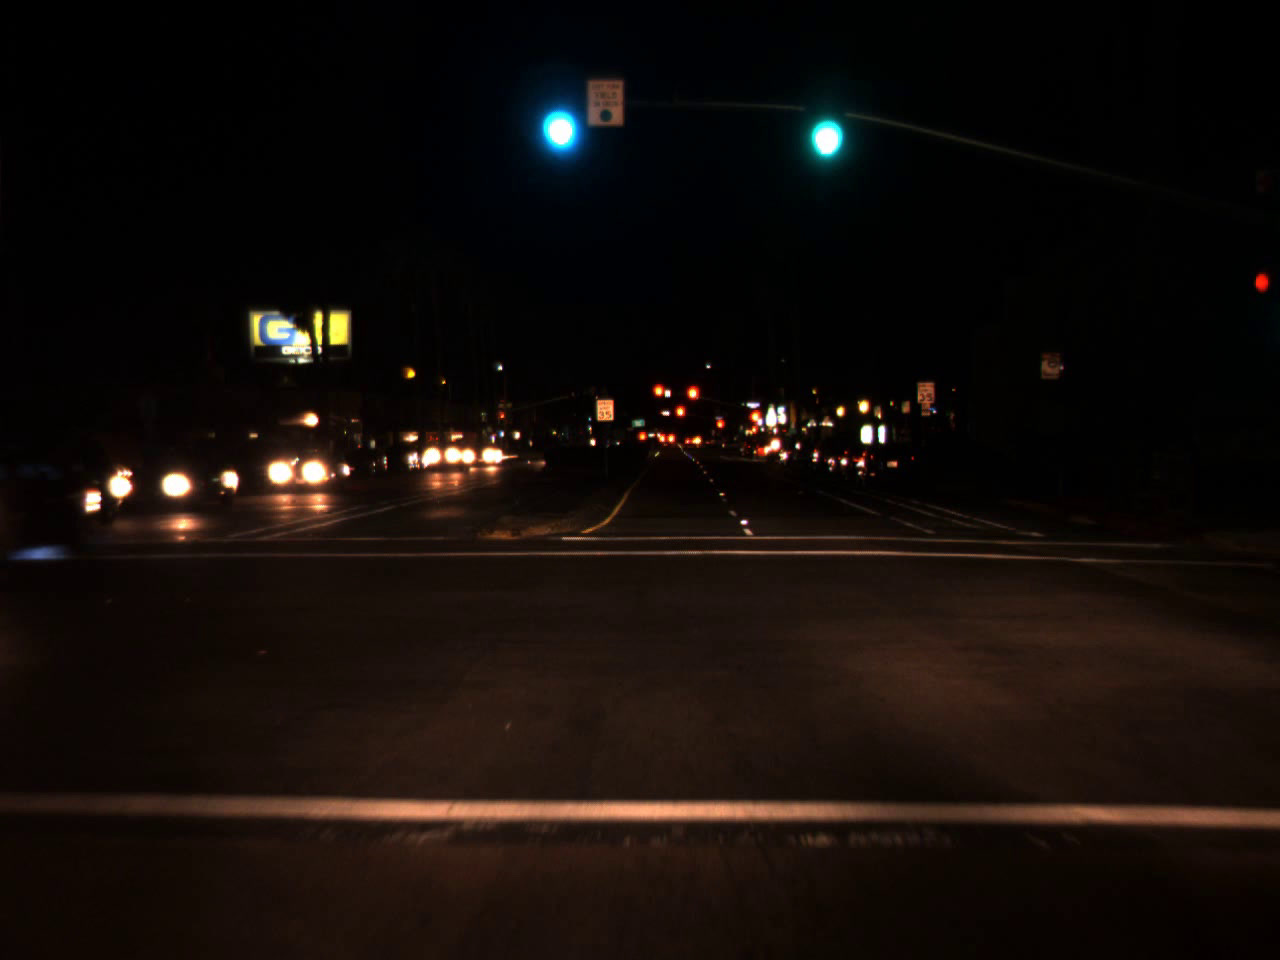go: (801, 80, 846, 167), (539, 84, 578, 156)
stop: (651, 382, 669, 411), (685, 384, 700, 416), (747, 407, 763, 431), (675, 403, 687, 430), (715, 418, 725, 434), (499, 413, 505, 423)
